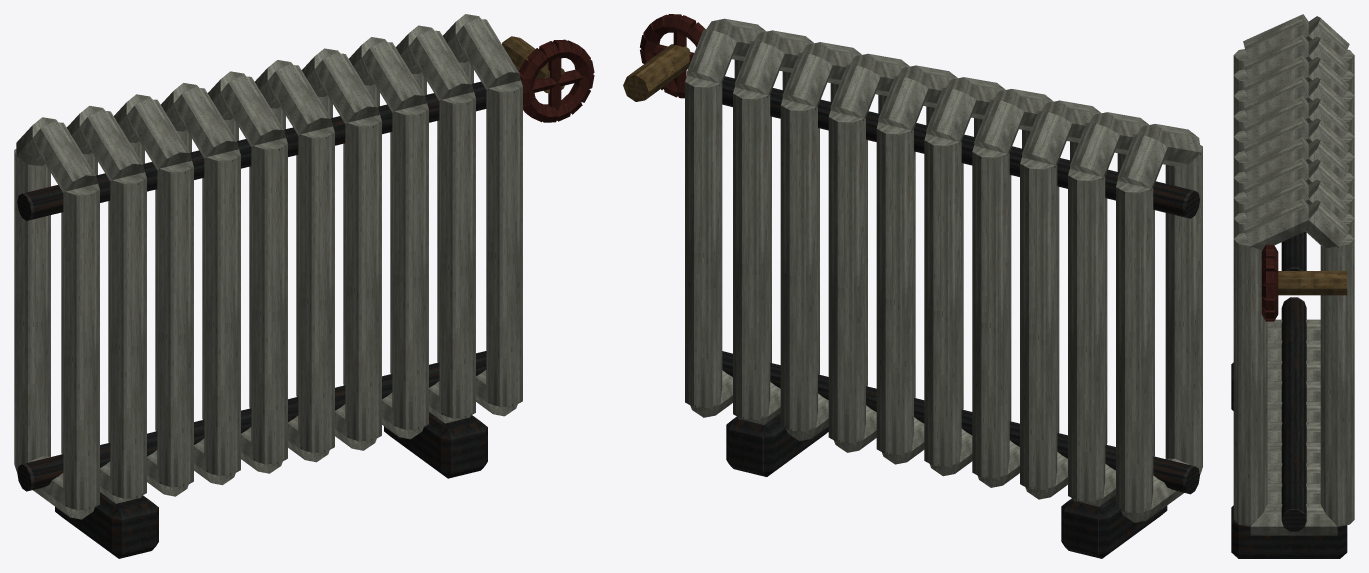
Rendered from level_radiator_worn.glb.
3 renders of one model, left to right at view 1: azimuth 30°, elevation 25°; view 2: azimuth 150°, elevation 25°; view 3: azimuth 270°, elevation 25°, orthographic. The views are drawn at different scales.
Parts seen in each view (by area): view 1: level_radiator_worn; view 2: level_radiator_worn; view 3: level_radiator_worn.
Boxes of the visible parts, <box> form: level_radiator_worn: <box>14,14,594,558</box>; level_radiator_worn: <box>623,14,1202,558</box>; level_radiator_worn: <box>1231,14,1354,558</box>.
Size of the model in its own units: 1.18 by 0.8513 by 0.255.
4 materials, 4 textured.
